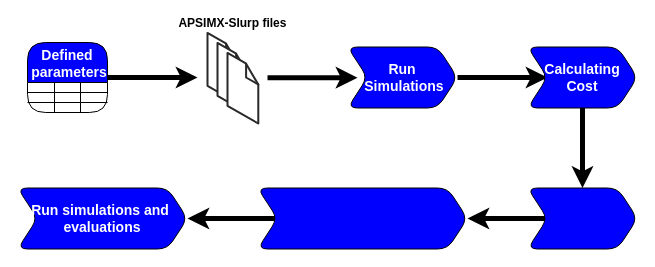
This 655x267 diagram has some shape labels left out. Here are the shapes that lost their labels. From the top down, the centre of each, then its label:
point 362,218: Modified APSIMX-Lucerne water related parameters
point 582,218: Report the best combinations
